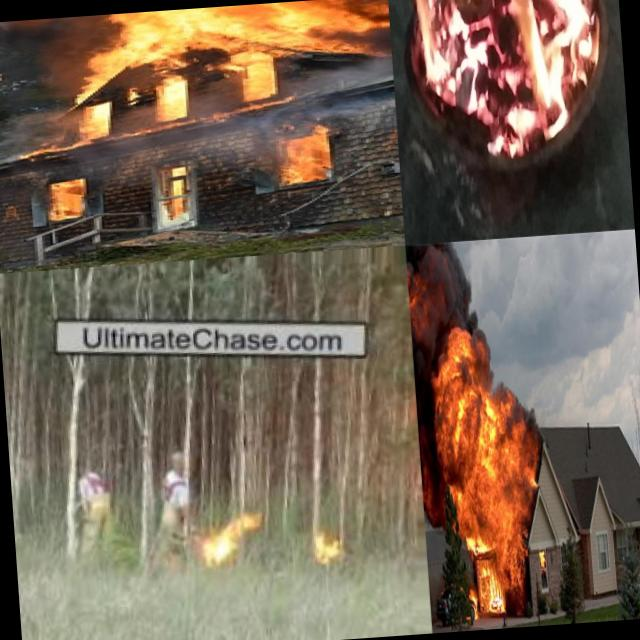fire: (402, 0, 614, 163), (432, 332, 540, 566), (75, 0, 391, 75), (195, 506, 264, 566), (268, 129, 340, 185), (20, 176, 91, 223), (146, 68, 196, 123), (80, 73, 116, 139), (224, 62, 277, 106), (306, 522, 346, 568), (14, 141, 92, 162), (477, 569, 506, 611), (468, 586, 480, 622), (540, 551, 548, 570)
smoke: (0, 16, 83, 146), (405, 240, 494, 337), (296, 58, 396, 125)
